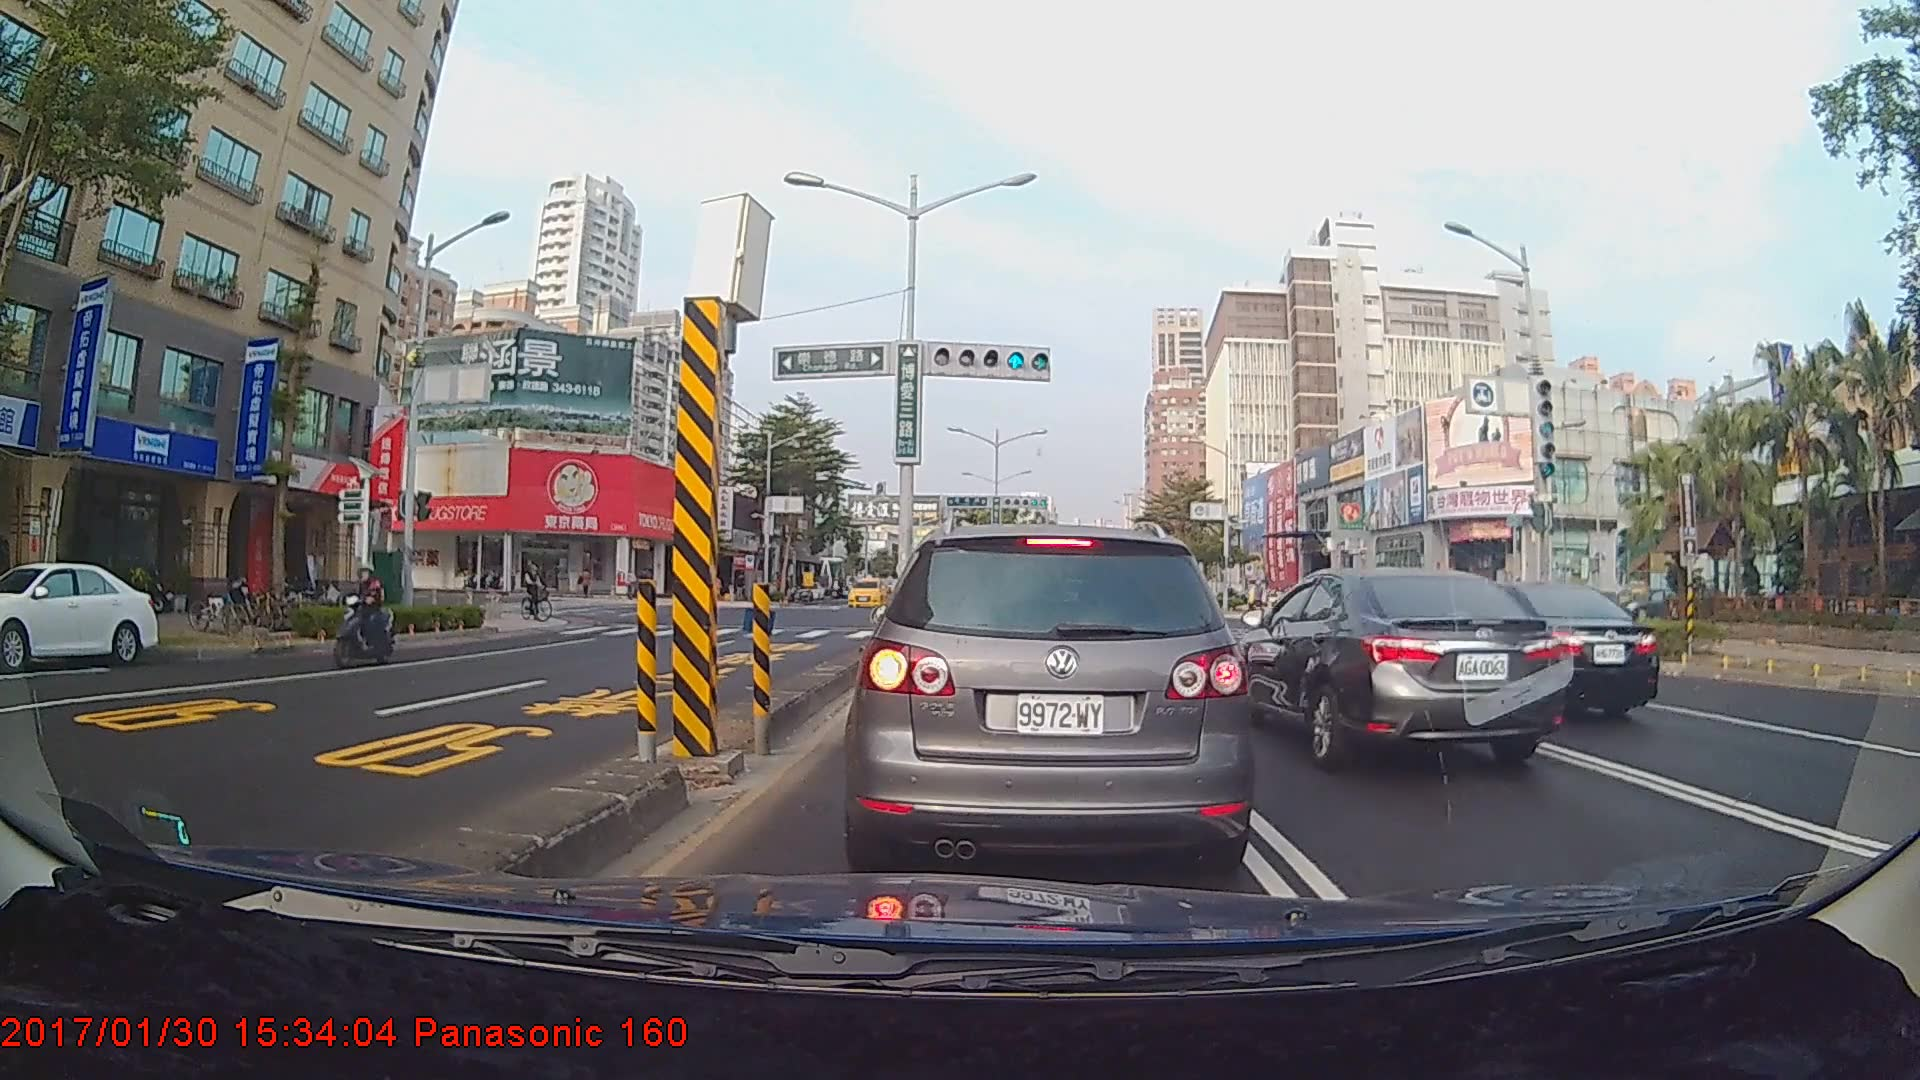rider: (326, 562, 401, 671), (518, 559, 561, 625)
vehicle: (855, 521, 1246, 876), (1227, 563, 1567, 775), (1431, 579, 1660, 724), (0, 561, 162, 671), (847, 577, 889, 608)
